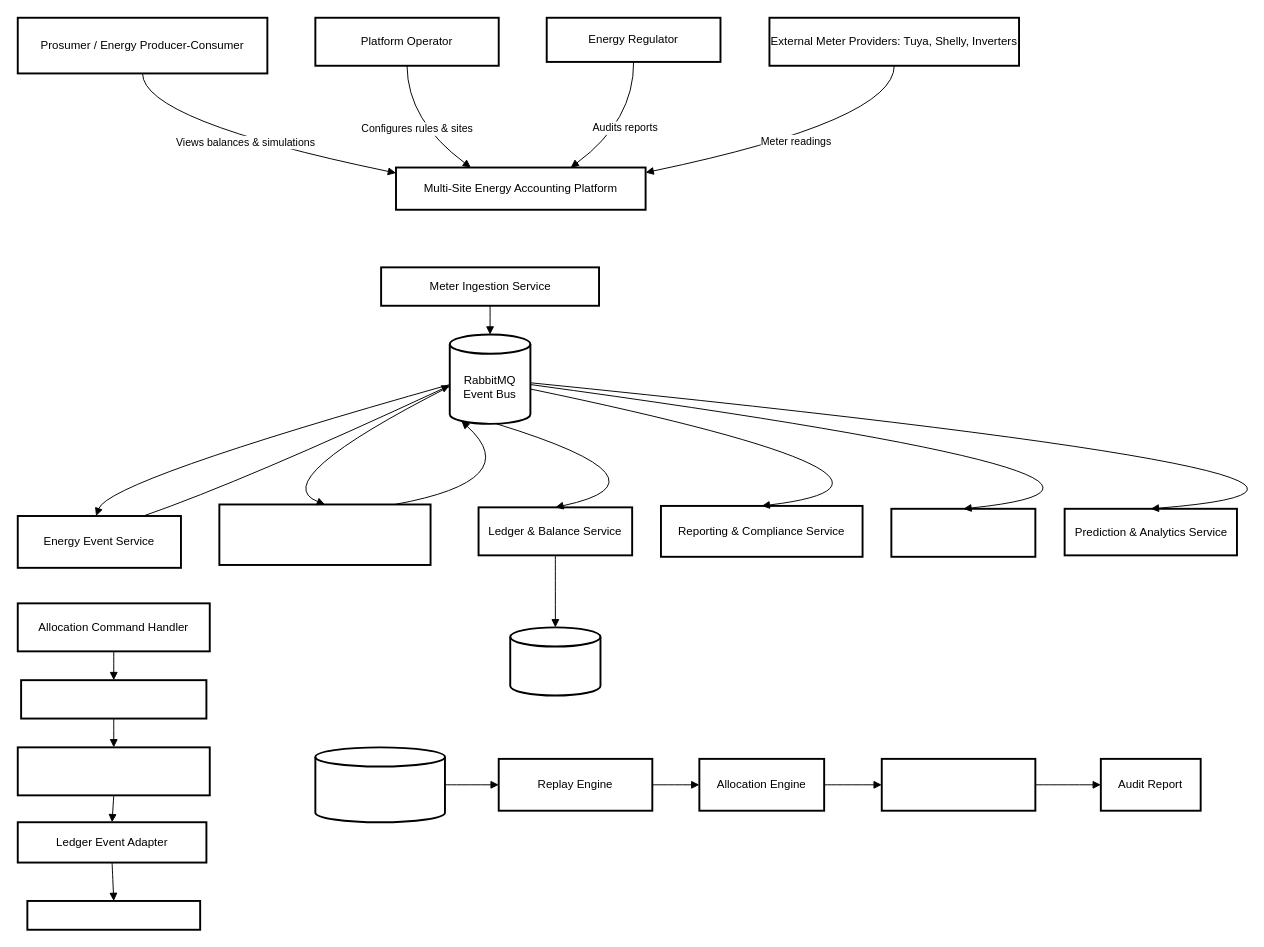
This 1264x947 diagram has some shape labels left out. The centre of each missing label's shape, as x and y in pixels:
Allocation Engine Service:IP Core: the point at 324,534
Deterministic Allocation Engine: the point at 113,771
Event Publisher: the point at 113,915
Historical Events: the point at 379,784
Ledger Reconstruction: the point at 958,784
PostgreSQL: the point at 555,661
Rule & Input Validator: the point at 113,699
Simulation Service: the point at 963,532
